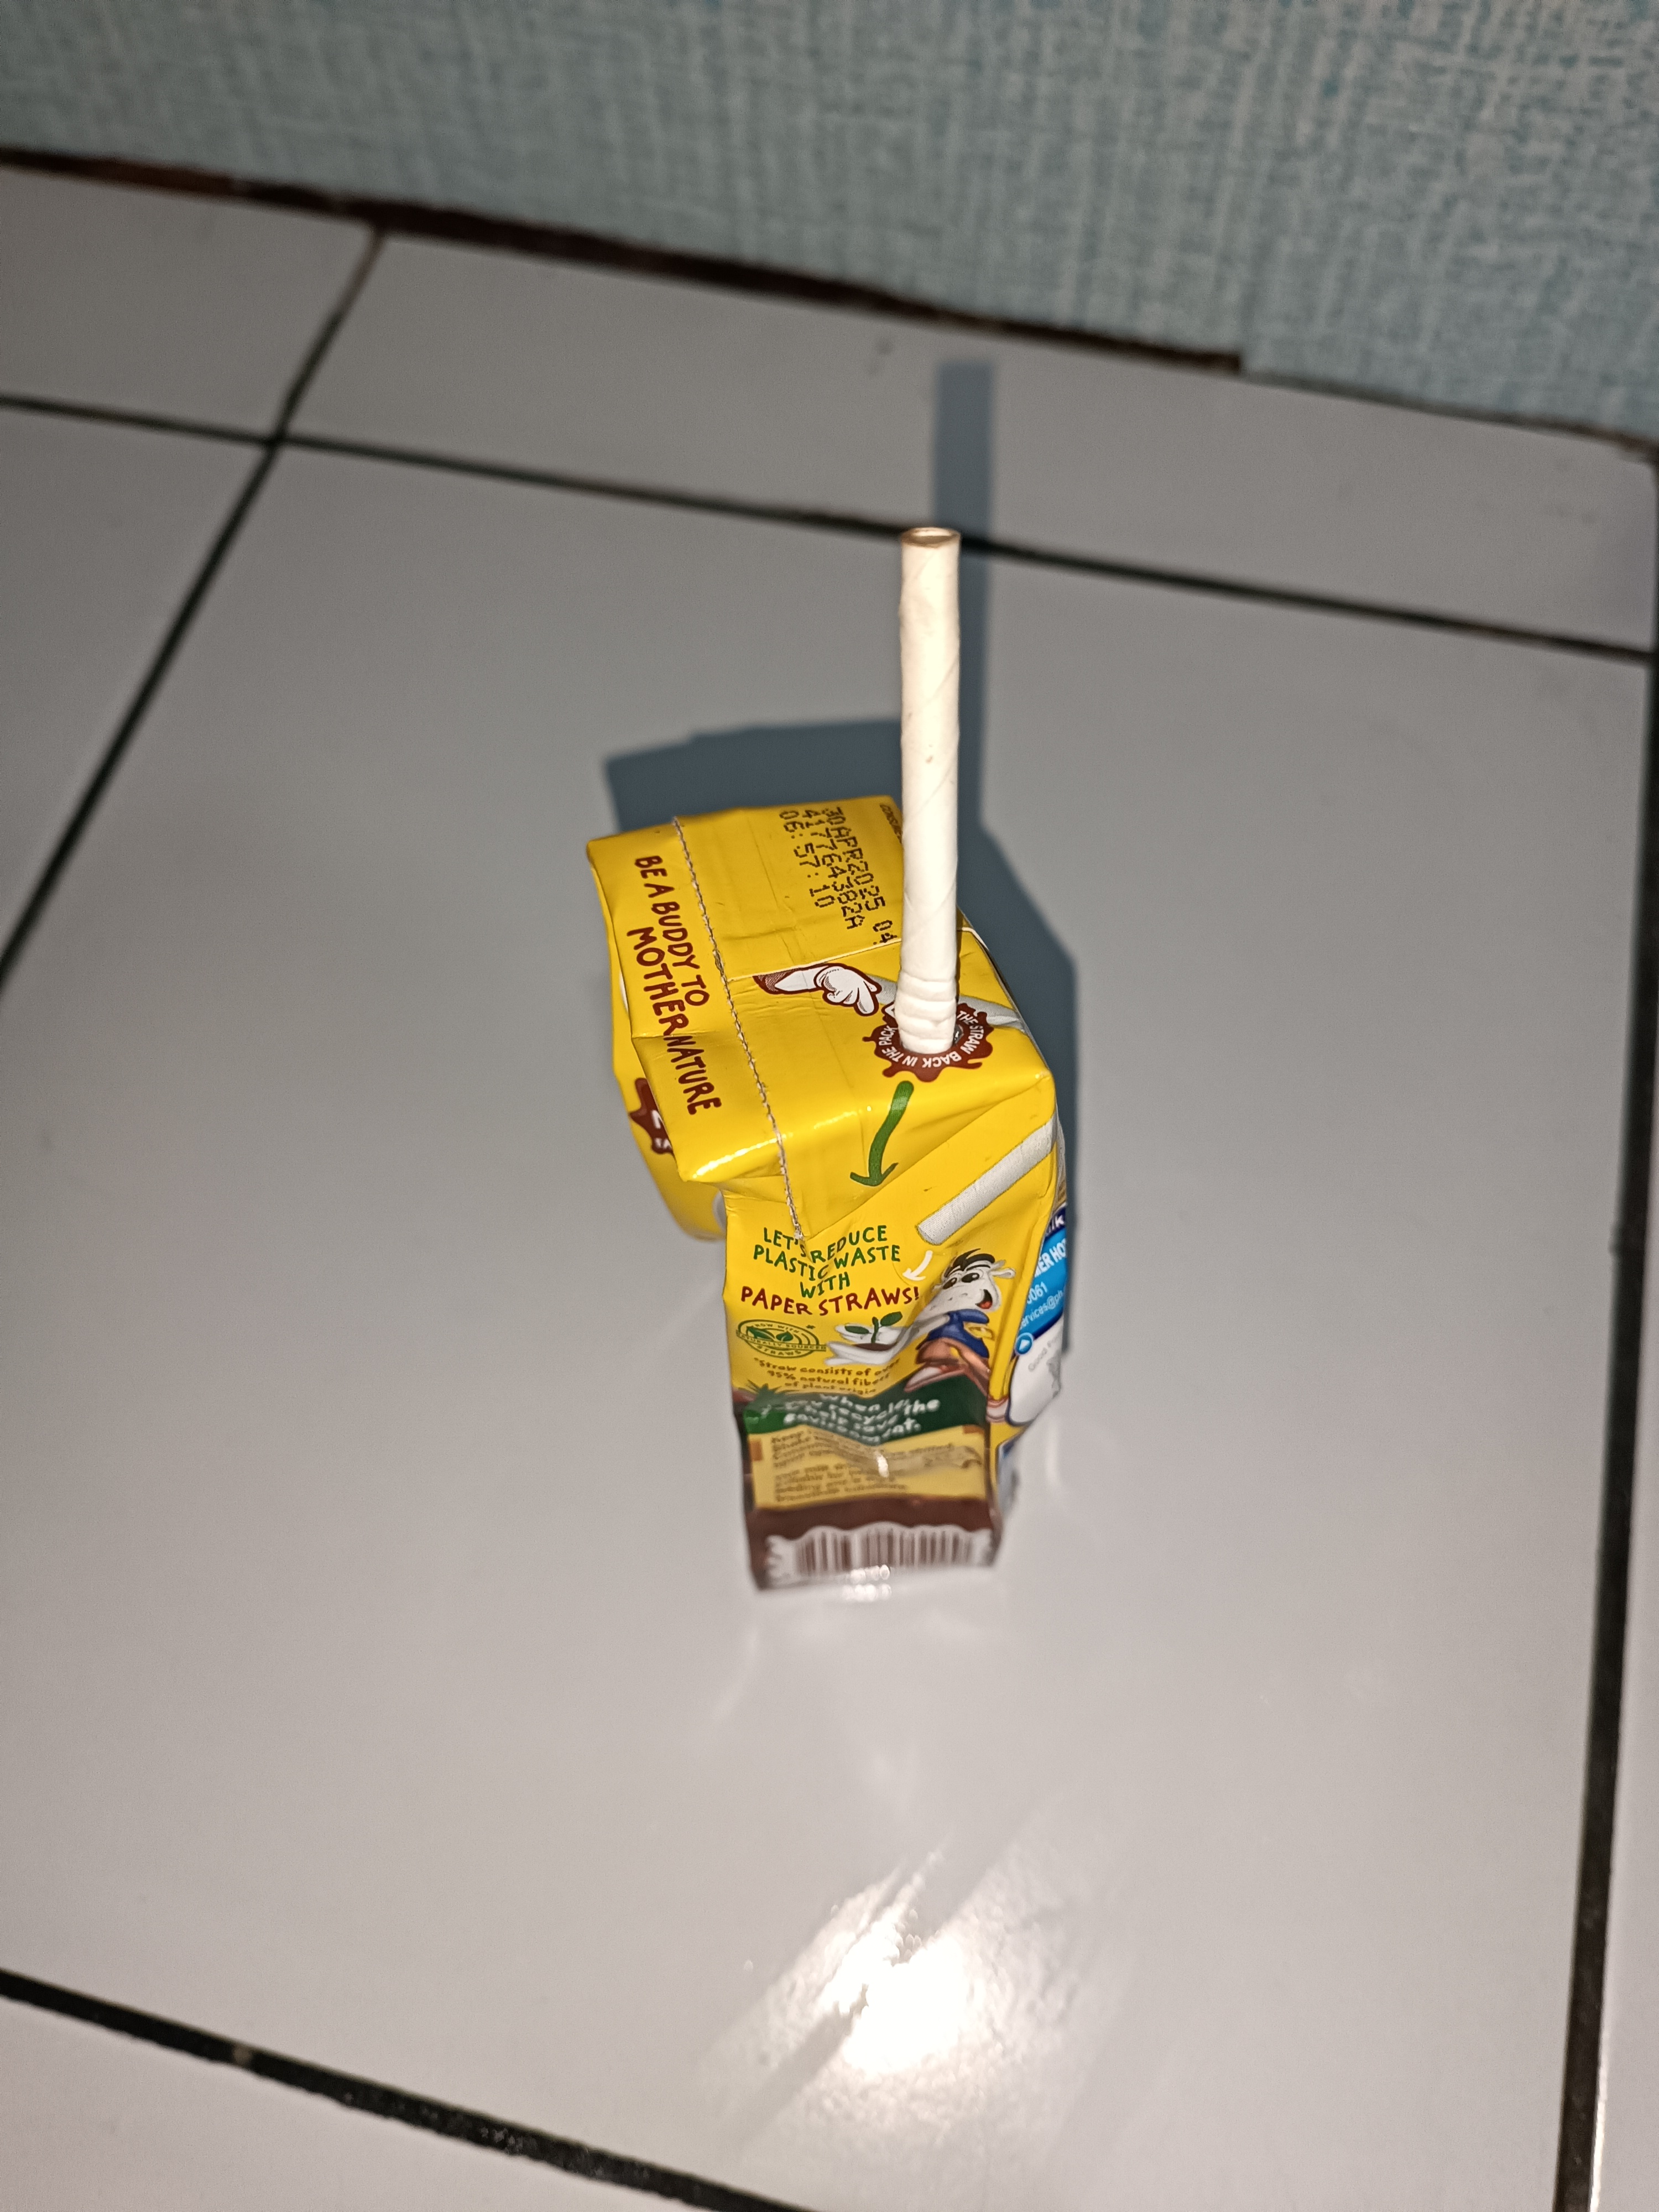Juice Box: (443, 458, 1161, 1688)
